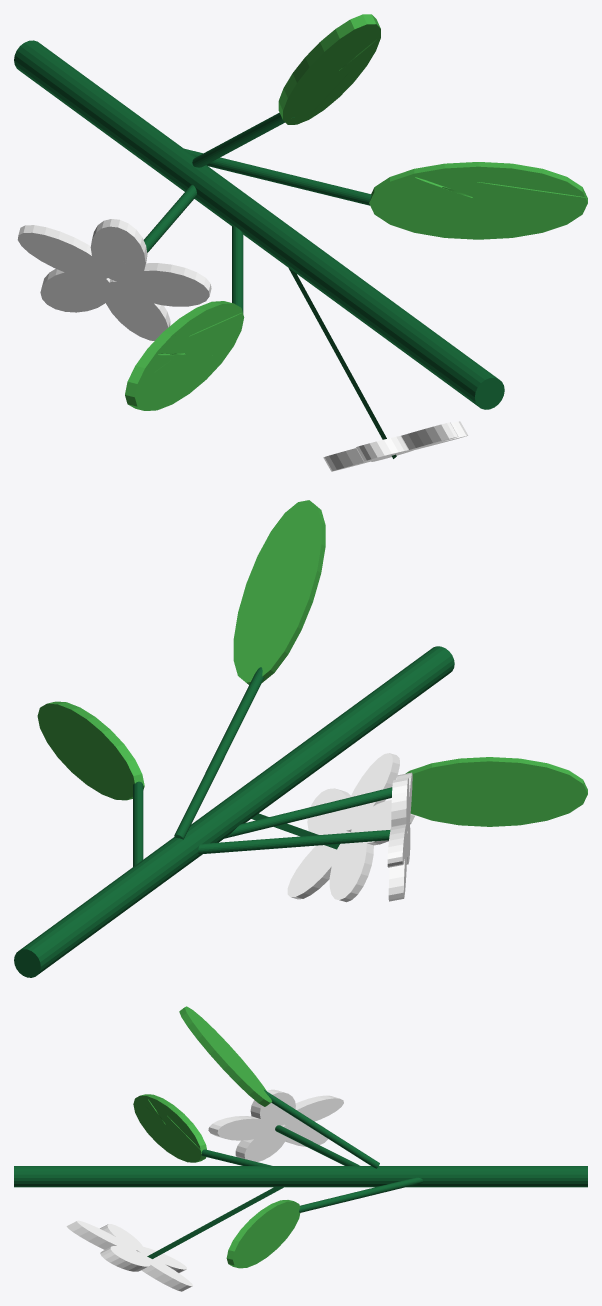
File: tinker.obj
3 renders of one model, top to bottom at view 1: azimuth 30°, elevation 25°; view 2: azimuth 150°, elevation 25°; view 3: azimuth 270°, elevation 25°, orthographic. The views are drawn at different scales.
Parts seen in each view (by area): view 1: group_0_4634441, group_0_1206582, group_0_16448250; view 2: group_0_4634441, group_0_1206582, group_0_16448250; view 3: group_0_1206582, group_0_4634441, group_0_16448250.
Boxes of the visible parts, x1,y1,x2,y2 form: group_0_4634441: (125, 14, 587, 410); group_0_1206582: (14, 40, 504, 458); group_0_16448250: (17, 219, 468, 471); group_0_4634441: (37, 500, 587, 826); group_0_1206582: (14, 646, 454, 977); group_0_16448250: (287, 753, 415, 902); group_0_1206582: (14, 1090, 587, 1258); group_0_4634441: (133, 1006, 300, 1268); group_0_16448250: (66, 1089, 343, 1291).
Size of the model in its own units: 53.93 by 43 by 80.
